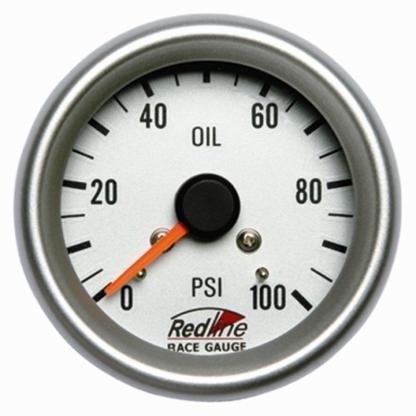needle: (103, 221, 189, 297)
